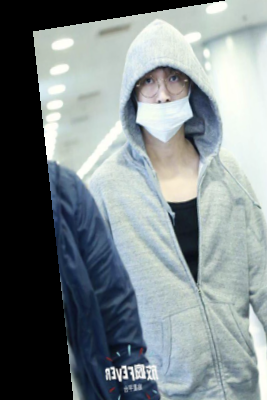mask_weared_incorrect: (116, 18, 218, 151)
